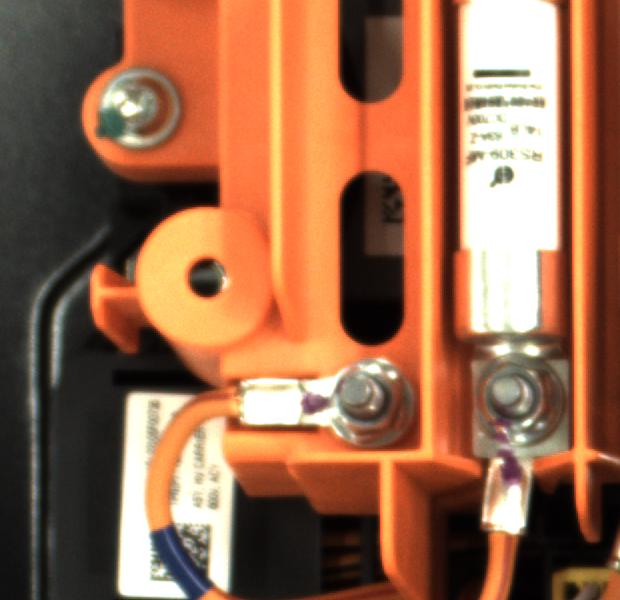screw_m: (91, 58, 196, 155)
screw_s: (468, 343, 576, 453), (319, 350, 419, 452)
